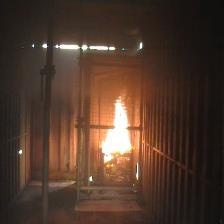fire: (100, 95, 139, 156)
